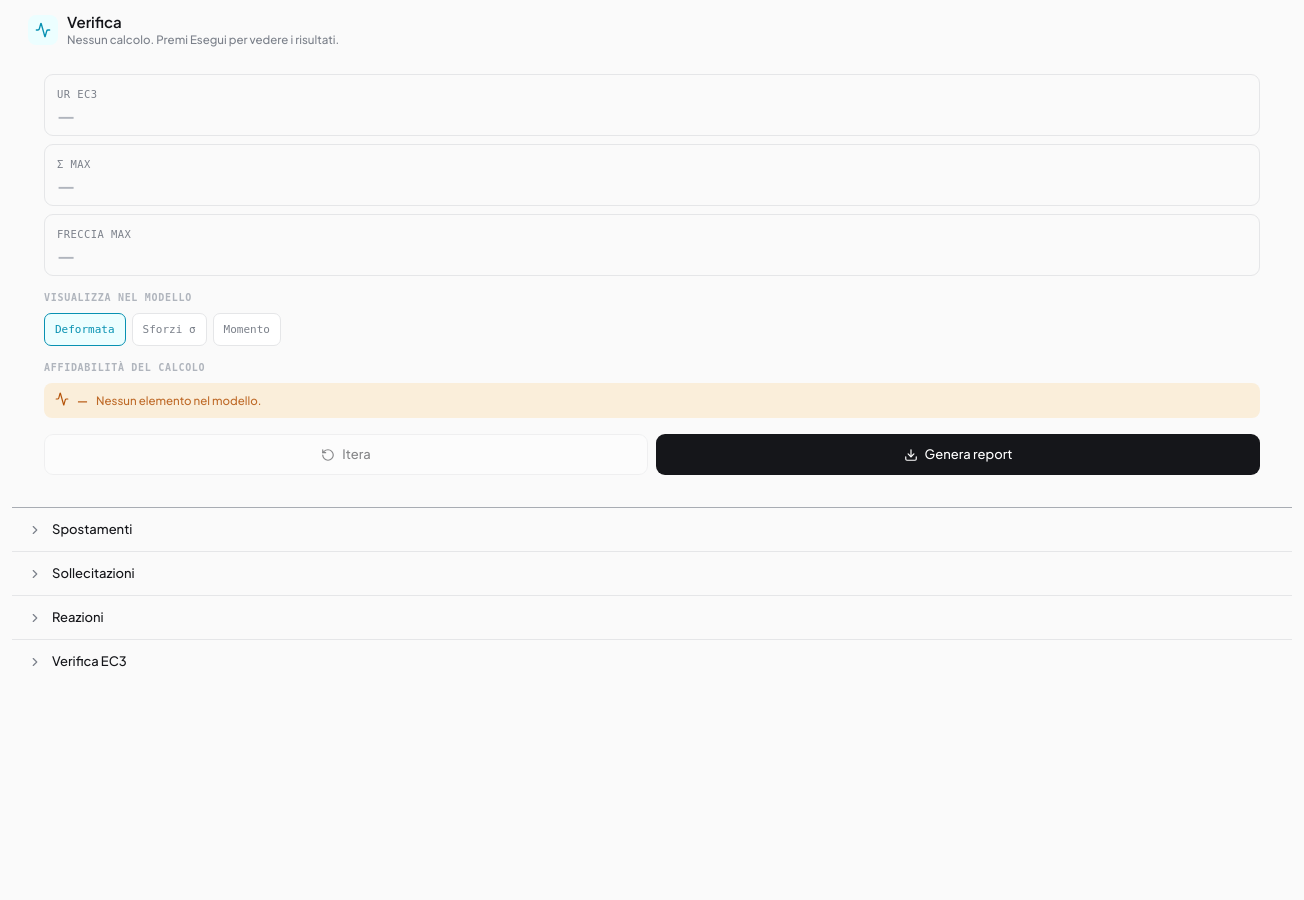
Test case: ResultsTabsPanel · v3.4 Fetta E2.5c (accordion verticale) › Spostamenti senza staticResults: placeholder onesto al posto della tabella
Click the button with test id "results-section-displacements-head".
click(92, 529)  # box [12, 508, 1292, 551]
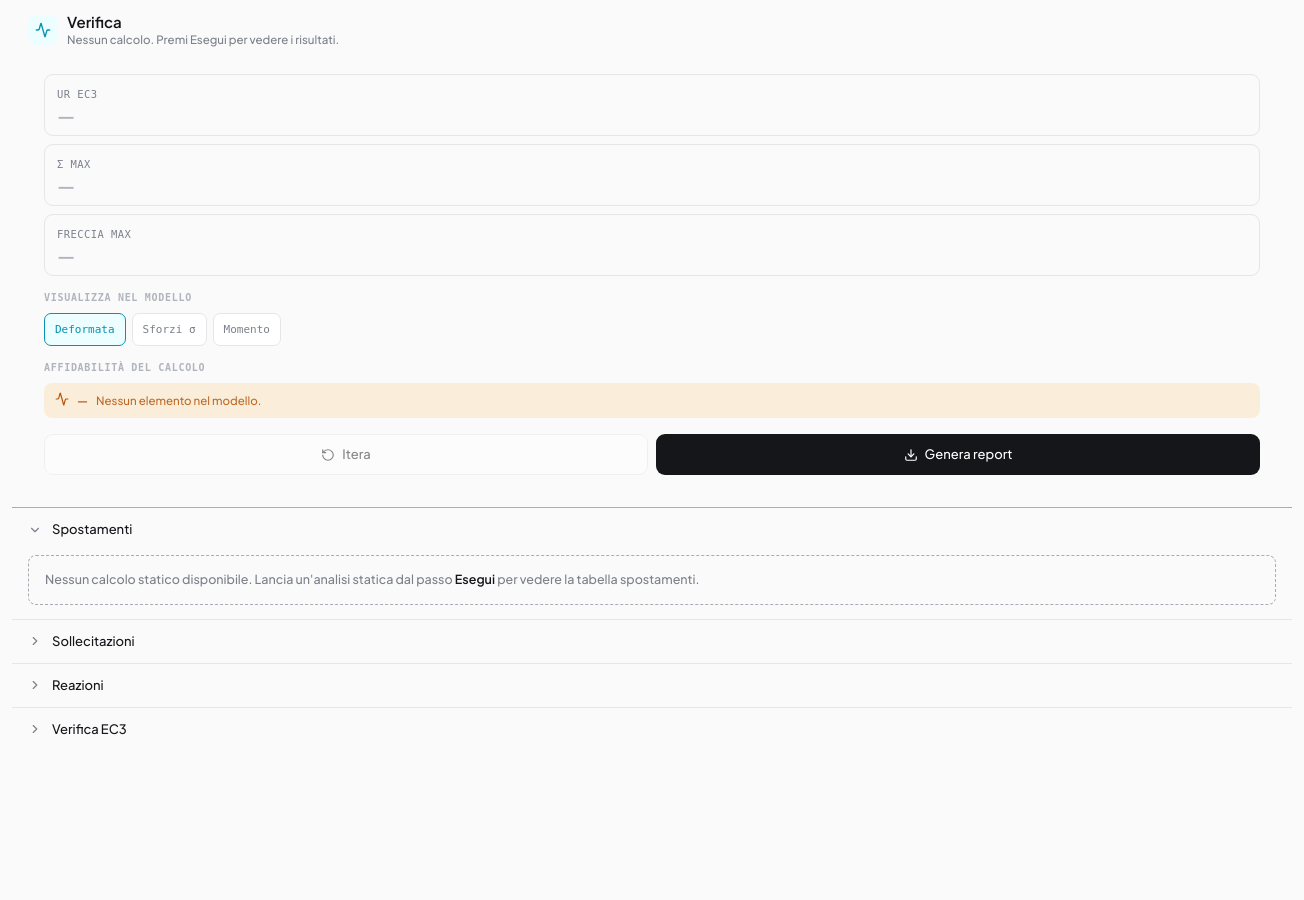
Result: the element with test id "results-placeholder" is shown at [28, 555, 1276, 605]
